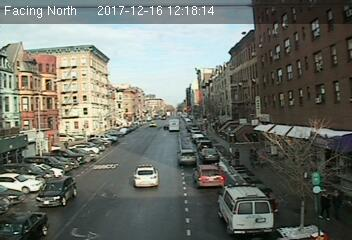car: (39, 177, 77, 207), (192, 164, 225, 190), (176, 148, 197, 166), (198, 146, 219, 164)
police: (215, 182, 277, 234), (132, 163, 160, 188)
